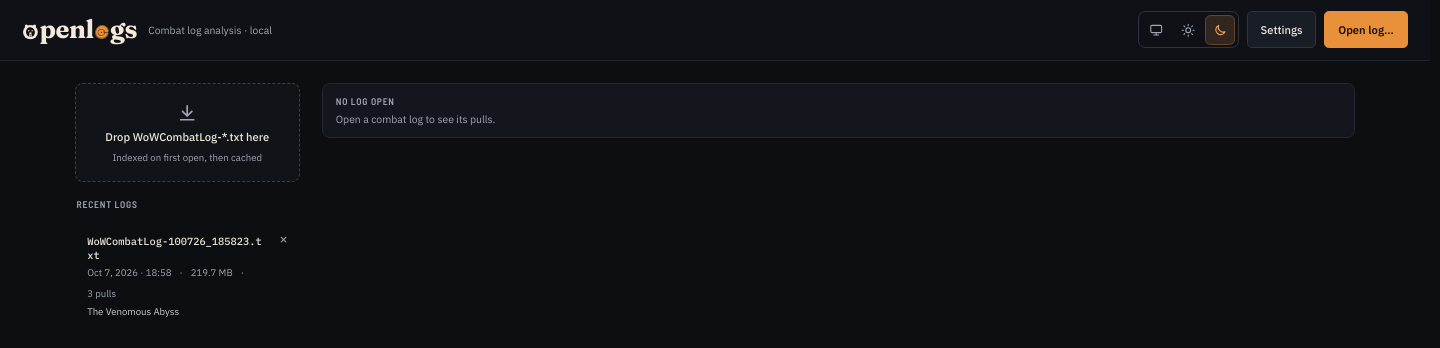
it: combat pulls › a log with only combat pulls shows them instead of the empty state
The image size is (1440, 348).
Step 1. Click the button "WoWCombatLog" → (187, 276), box [75, 223, 300, 329]
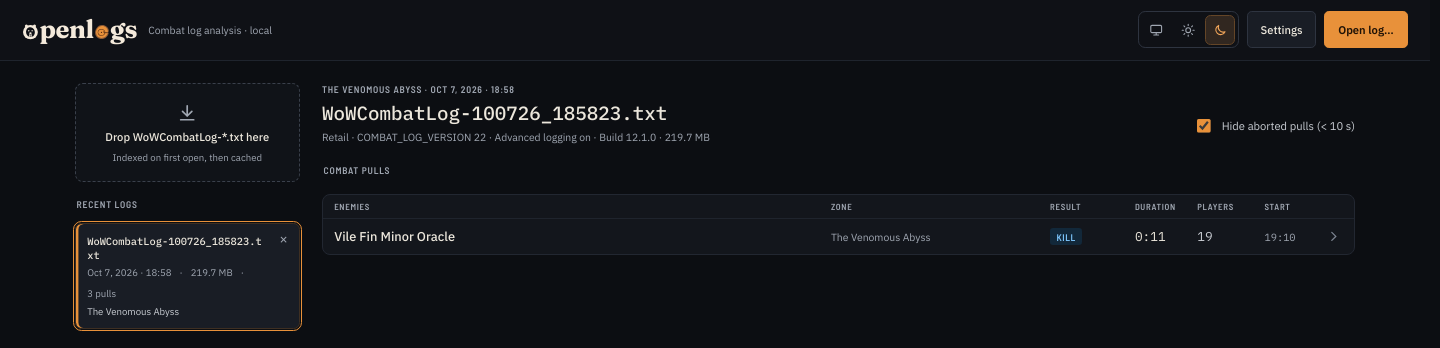
Expected: the button with aria-label "Open combat pull Vile Fin Minor Oracle" is shown, [323, 218, 1354, 254]
